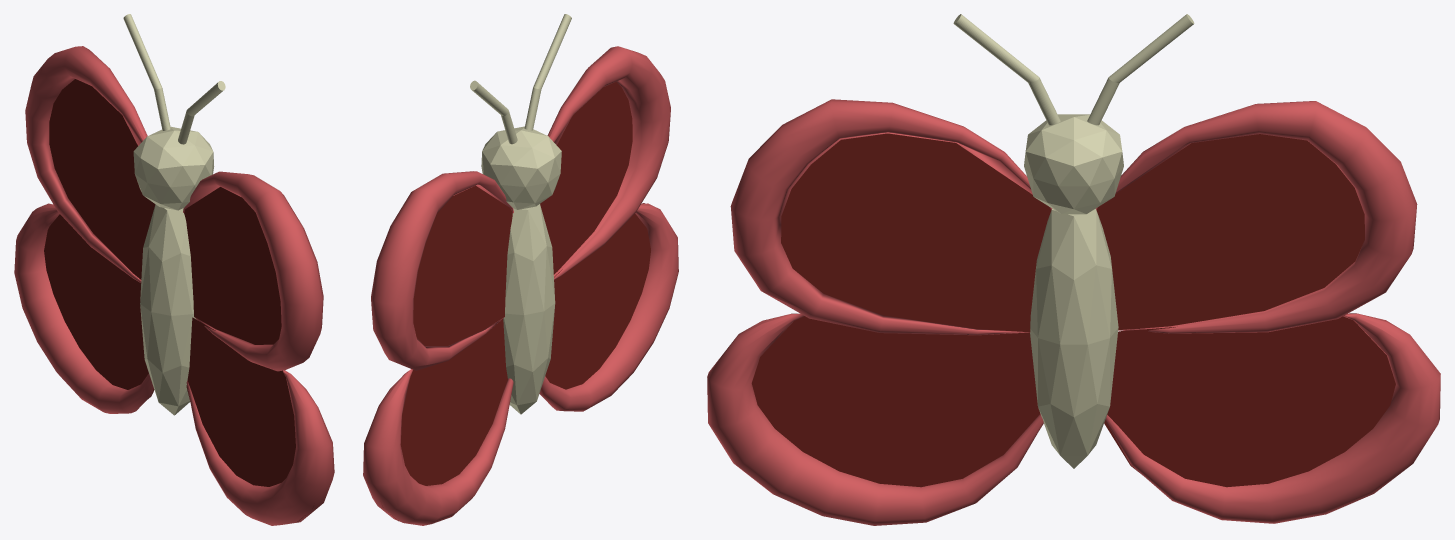
Rendered from coloured_butterfly_.fbx.
3 renders of one model, left to right at view 1: azimuth 30°, elevation 25°; view 2: azimuth 150°, elevation 25°; view 3: azimuth 270°, elevation 25°, orthographic. The views are drawn at different scales.
Parts seen in each view (by area): view 1: Antennas; view 2: Antennas; view 3: Antennas.
Boxes of the visible parts, bbox=[...] form: Antennas: bbox=[14, 14, 334, 525]; Antennas: bbox=[363, 14, 678, 525]; Antennas: bbox=[707, 14, 1440, 525].
Size of the model in its own units: 188 by 1063 by 1391.
